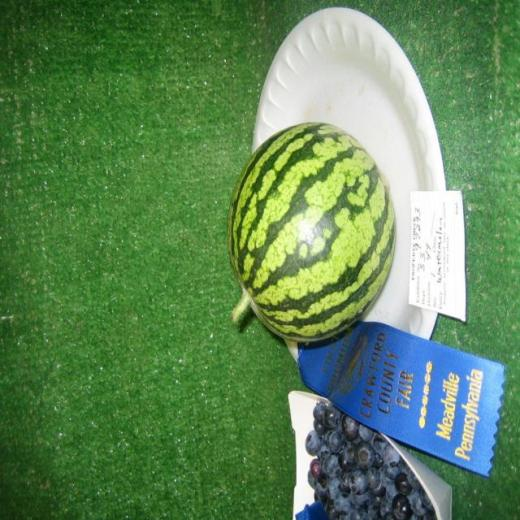Cherry: (226, 123, 396, 350)
